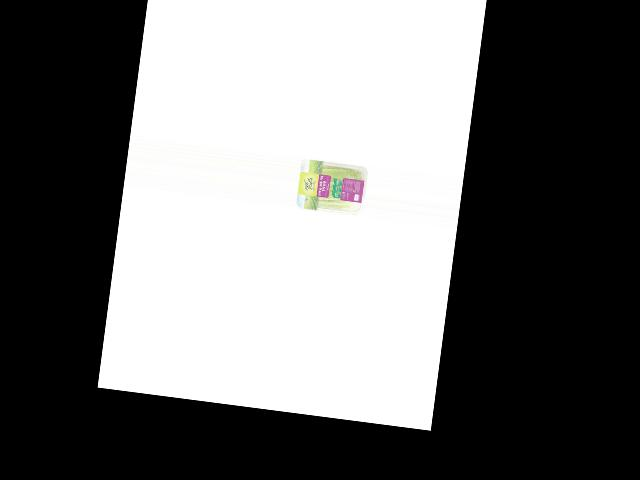lettuce: (300, 158, 369, 217)
